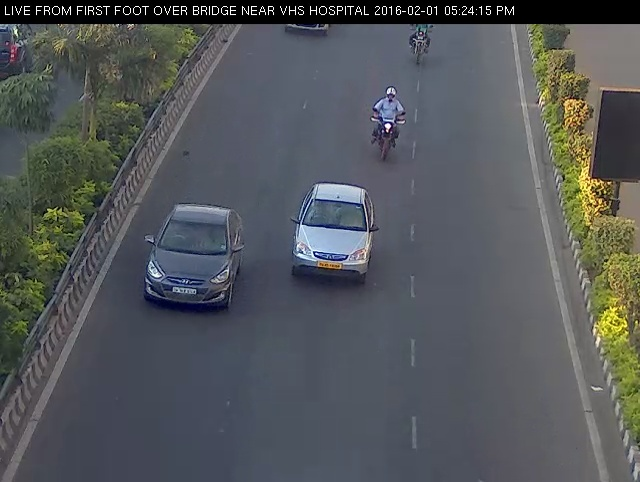Car: (130, 198, 249, 320), (282, 179, 381, 291), (280, 15, 336, 42)
Person: (360, 78, 408, 167), (400, 16, 440, 76)
